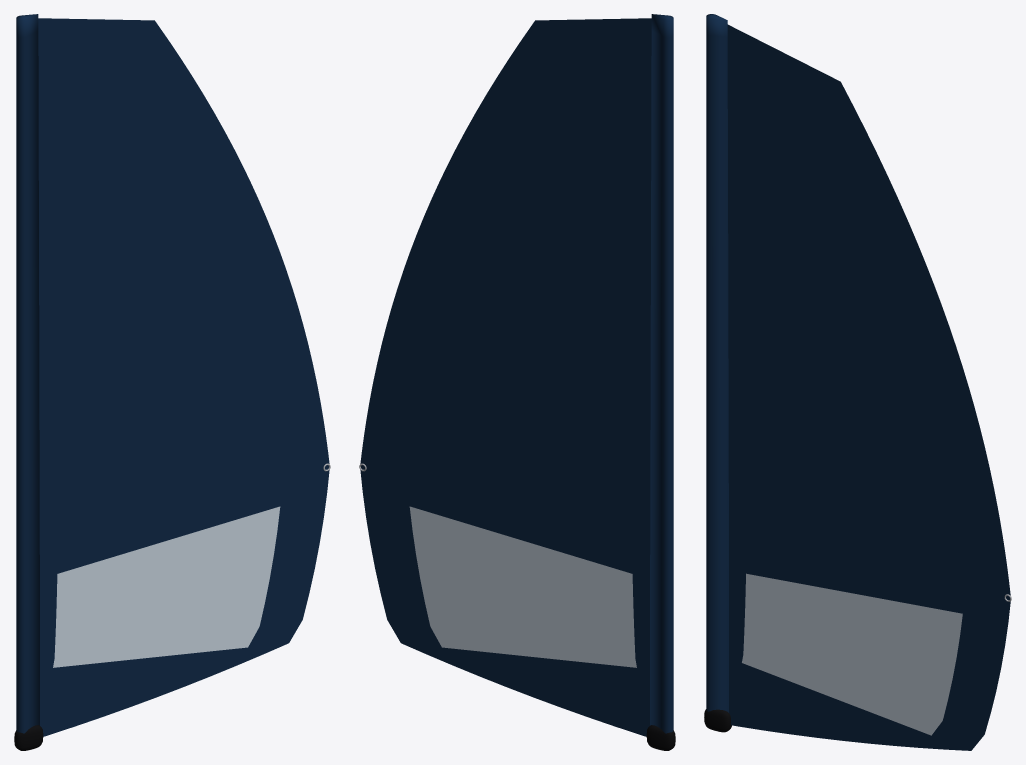
File: southsails_freerace_7_7.glb
The picture shows the model from 3 angles, left to right: view 1: azimuth 30°, elevation 25°; view 2: azimuth 150°, elevation 25°; view 3: azimuth 330°, elevation 25°; orthographic projection. The views are drawn at different scales.
Parts seen in each view (by area): view 1: SailCloth, TackFairing; view 2: SailCloth, TackFairing; view 3: SailCloth, TackFairing.
Part boxes in pixels (x1,y1,x2,y2): SailCloth: (16,14,329,736); TackFairing: (14,725,43,750); SailCloth: (360,14,673,736); TackFairing: (646,725,675,750); SailCloth: (706,14,1010,750); TackFairing: (704,709,731,732).
Bounding box in the file's own units: 2.14 × 4.77 × 0.08.
